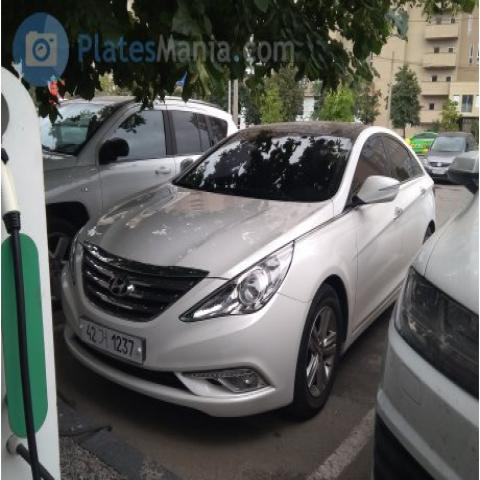LP: (72, 311, 156, 376)
